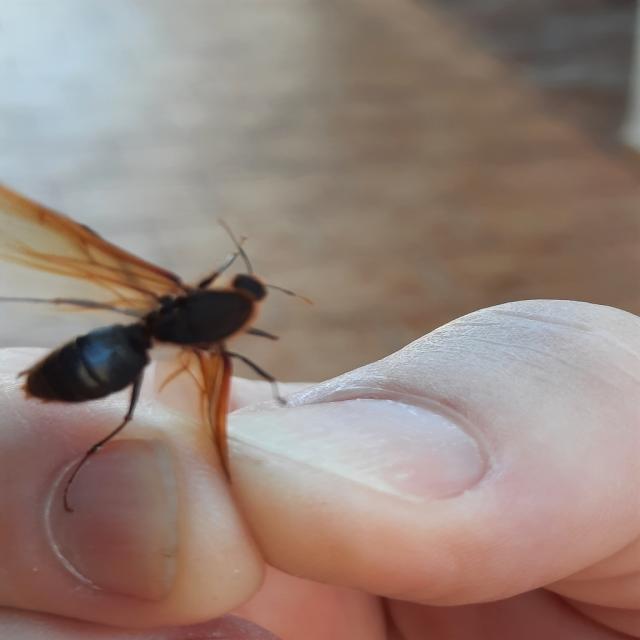Alive-Male-Alate: (0, 178, 316, 516)
